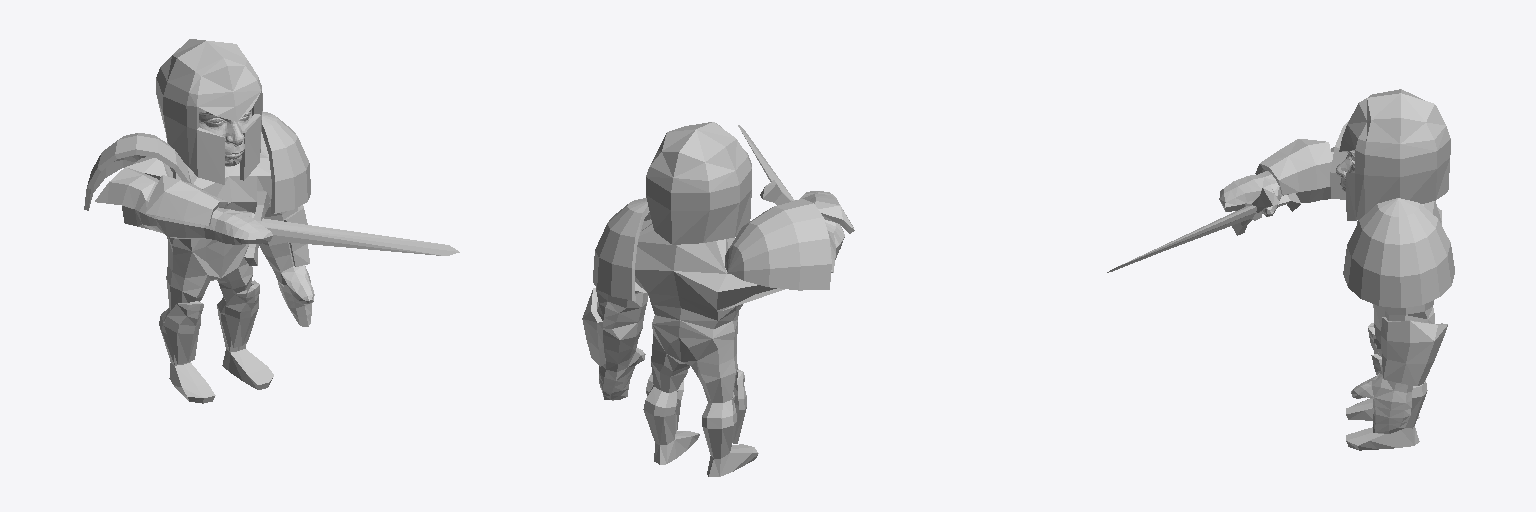
Rendered from abbeAttack3.obj.
3 views of the same model, side by side, from view 1: azimuth 30°, elevation 25°; view 2: azimuth 150°, elevation 25°; view 3: azimuth 270°, elevation 25° (orthographic).
Parts seen in each view (by area): view 1: Sphere.002; view 2: Sphere.002; view 3: Sphere.002.
Part boxes in pixels (x1,y1,x2,y2): Sphere.002: (84,39,459,403); Sphere.002: (582,122,854,476); Sphere.002: (1107,89,1454,450).
Bounding box in the file's own units: 2.05 × 2.82 × 2.66.